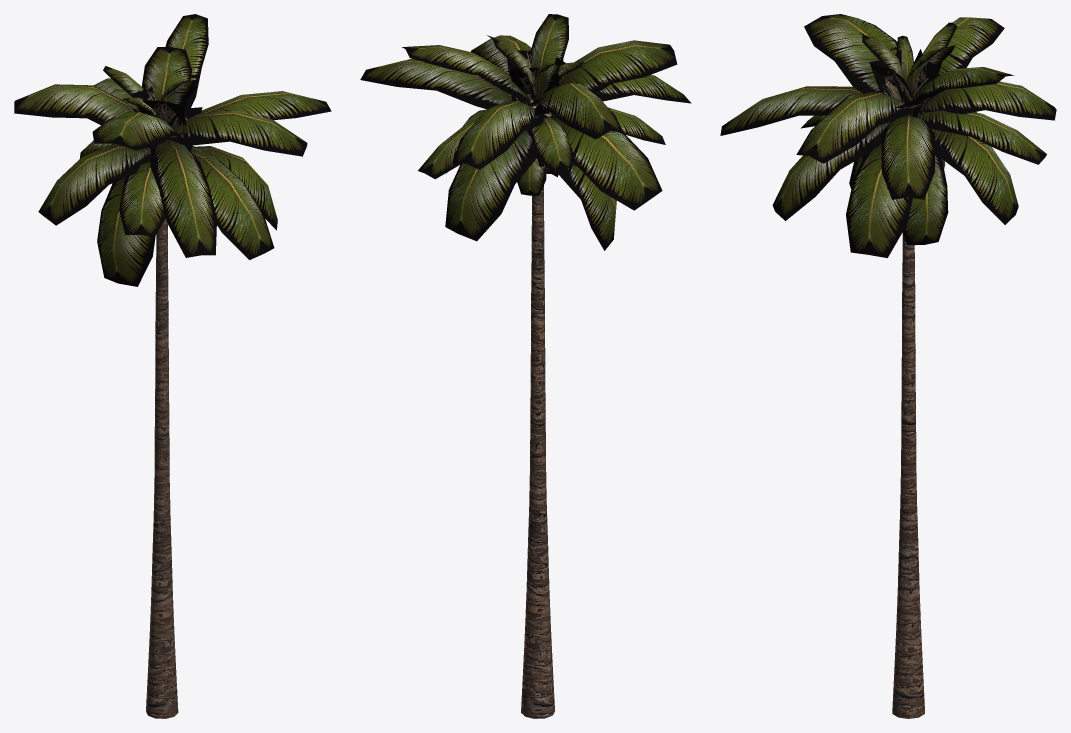
The model's file is palm_tree.glb.
The picture shows the model from 3 angles, left to right: view 1: azimuth 30°, elevation 25°; view 2: azimuth 150°, elevation 25°; view 3: azimuth 270°, elevation 25°; orthographic projection. The views are drawn at different scales.
Parts seen in each view (by area): view 1: LOD0; view 2: LOD0; view 3: LOD0.
Part boxes in pixels (x1=…): LOD0: x1=14, y1=14, x2=331, y2=718; LOD0: x1=360, y1=14, x2=691, y2=718; LOD0: x1=720, y1=14, x2=1056, y2=718.
Size of what is drawn, in the model's own units: 1.98 by 4.4 by 1.98.
Materials: 1 (1 with a texture image).
